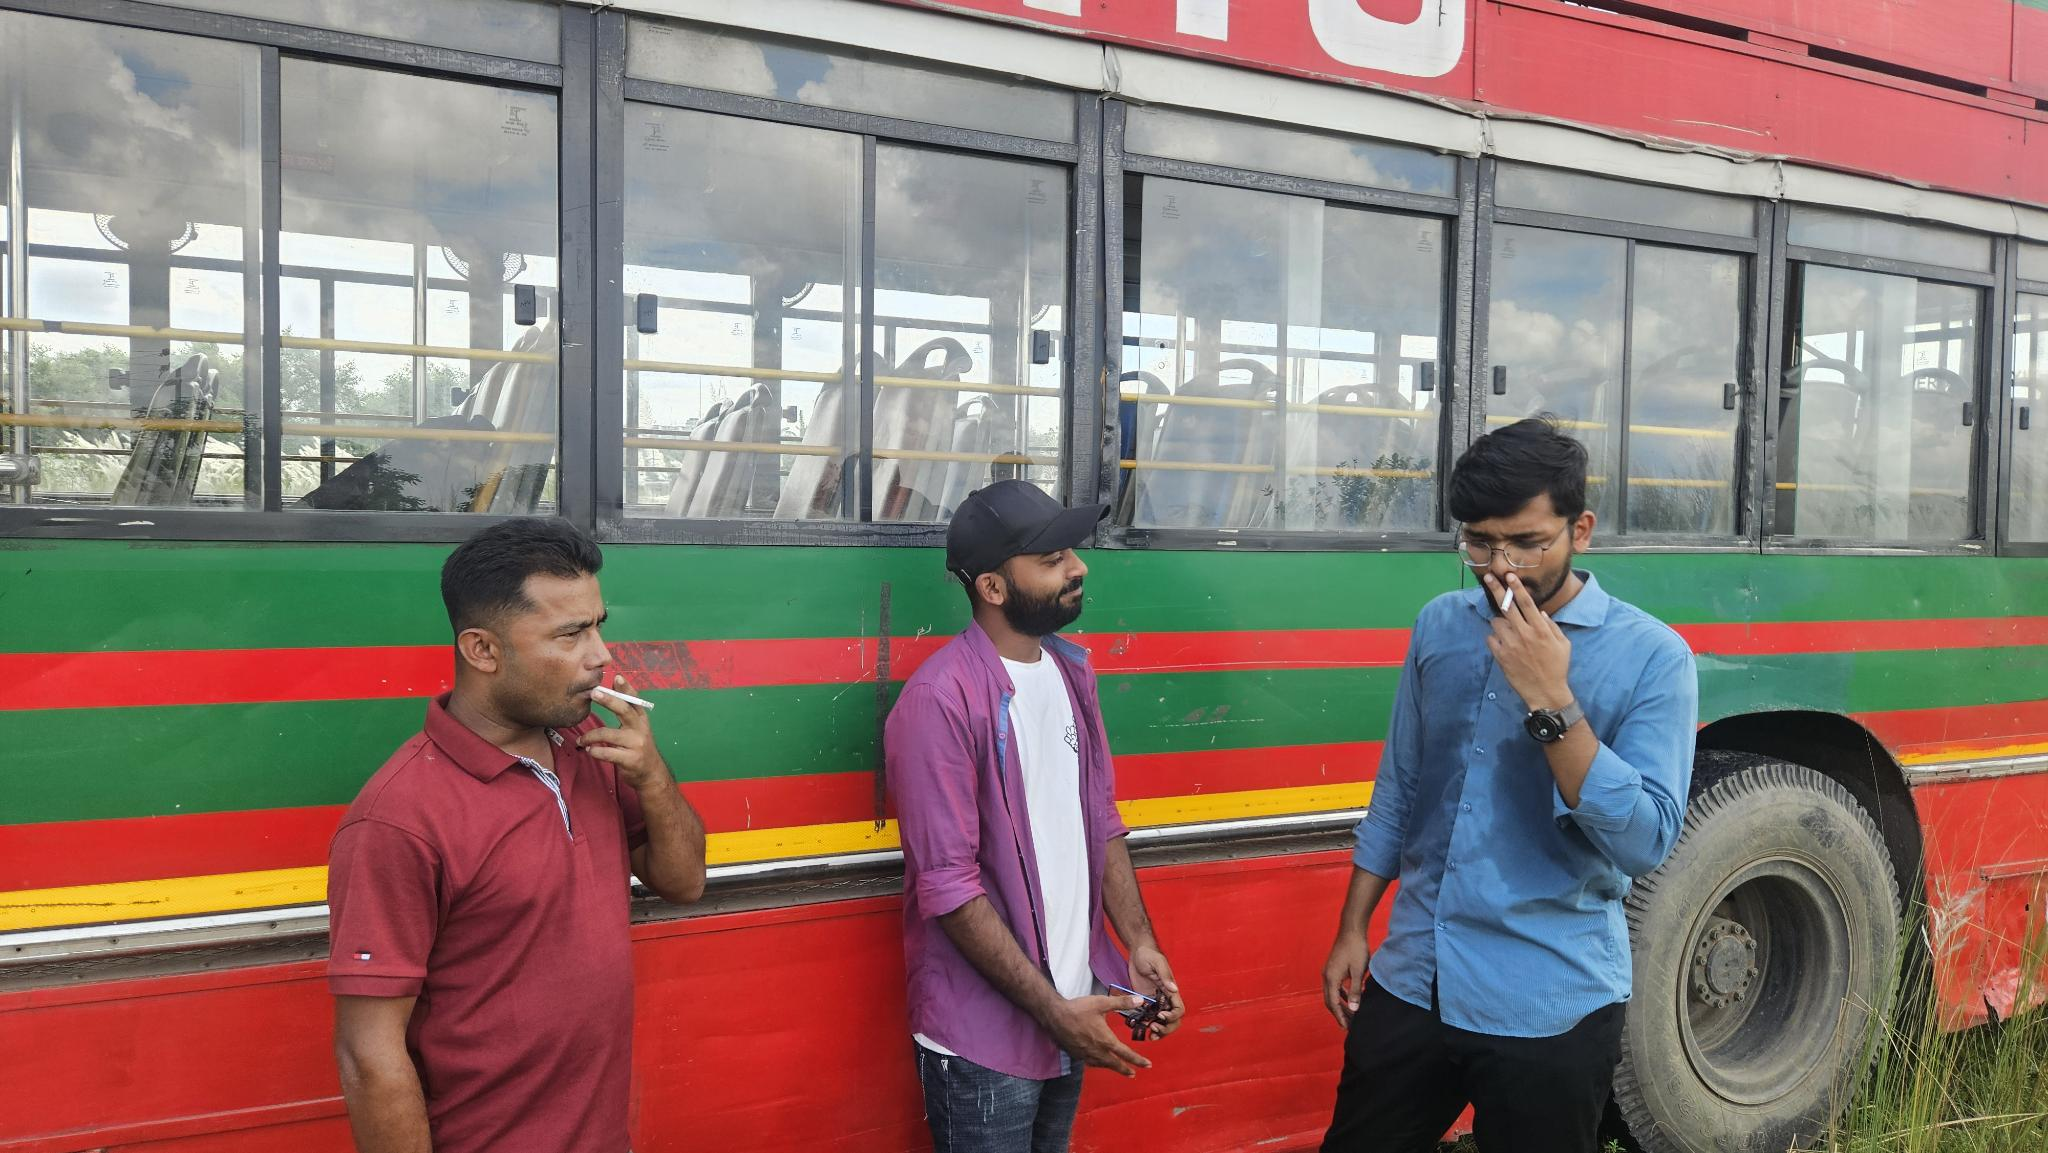cigarette: (591, 683, 657, 713), (1497, 585, 1515, 614)
nonSmoker: (885, 479, 1183, 1153)
smoker: (1319, 419, 1699, 1153), (325, 516, 708, 1153)
